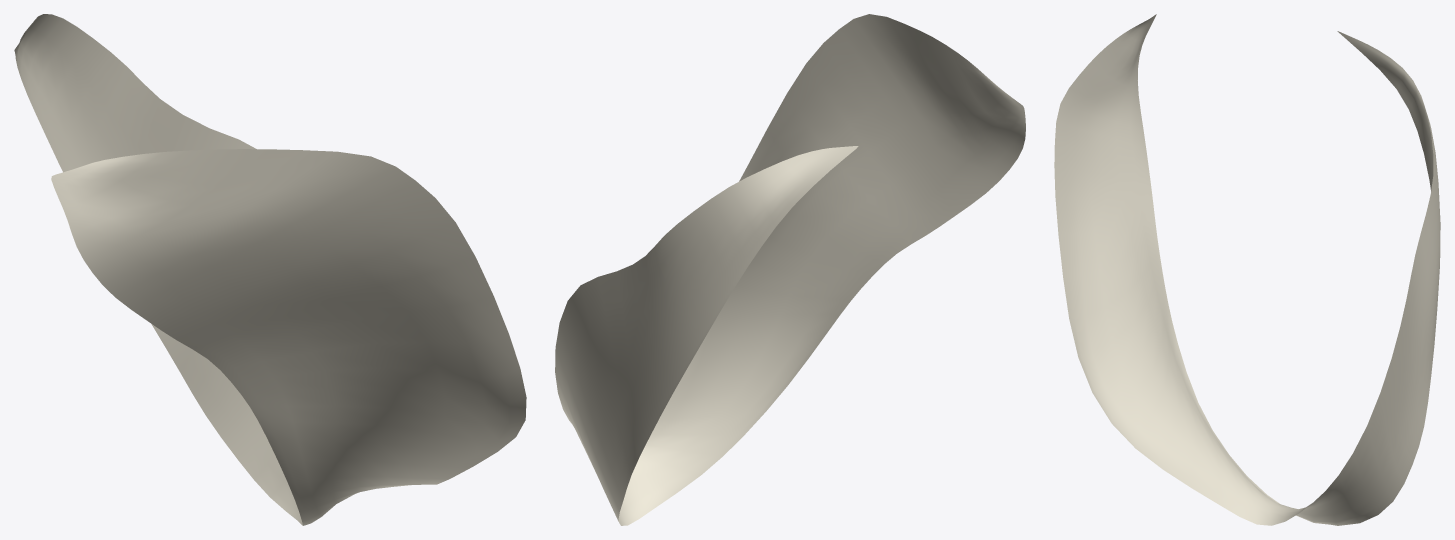
3 renders of one model, left to right at view 1: azimuth 30°, elevation 25°; view 2: azimuth 150°, elevation 25°; view 3: azimuth 270°, elevation 25°, orthographic. The views are drawn at different scales.
Parts seen in each view (by area): view 1: ZA_3cd0fcabc7a64a90; view 2: ZA_3cd0fcabc7a64a90; view 3: ZA_3cd0fcabc7a64a90.
Boxes of the visible parts, box(x1,y1,x2,y2) form: ZA_3cd0fcabc7a64a90: box(14, 14, 526, 525); ZA_3cd0fcabc7a64a90: box(555, 14, 1025, 525); ZA_3cd0fcabc7a64a90: box(1054, 14, 1440, 525).
Bounding box in the file's own units: 0.0371 × 0.0416 × 0.0367.
